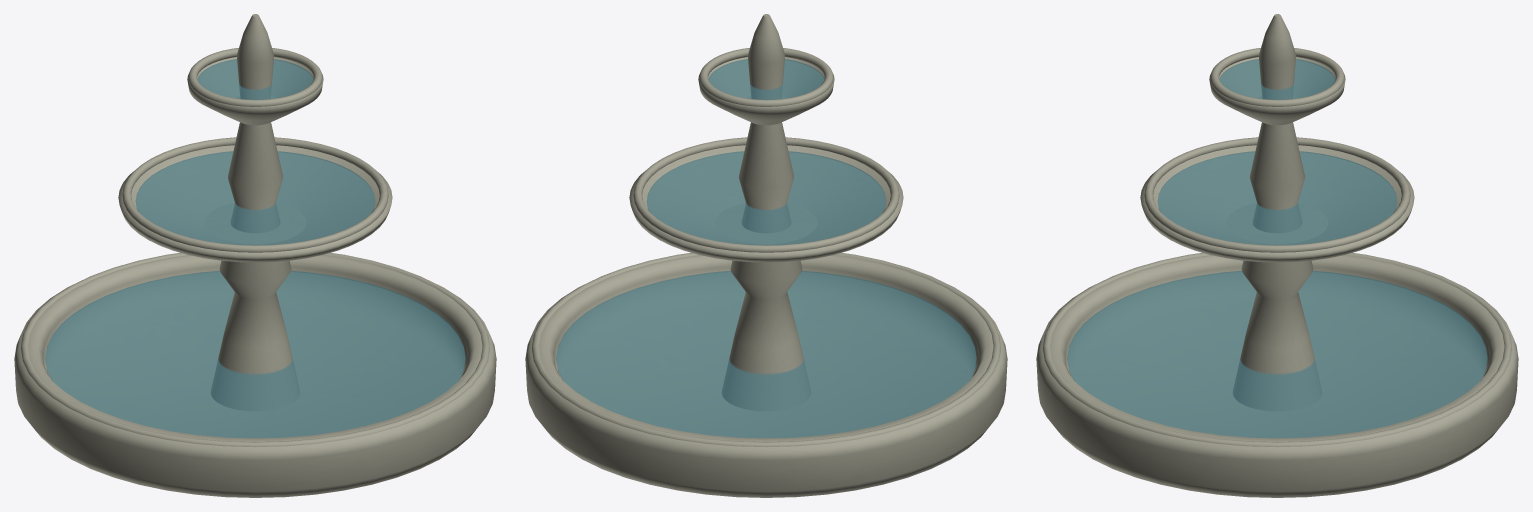
Rendered from TieredFountain.gltf.
The picture shows the model from 3 angles, left to right: view 1: azimuth 30°, elevation 25°; view 2: azimuth 150°, elevation 25°; view 3: azimuth 270°, elevation 25°; orthographic projection.
Parts seen in each view (by area): view 1: TieredFountain__Body, TieredFountain__Water3, TieredFountain__Water2, TieredFountain__Water1; view 2: TieredFountain__Body, TieredFountain__Water3, TieredFountain__Water2, TieredFountain__Water1; view 3: TieredFountain__Body, TieredFountain__Water3, TieredFountain__Water2, TieredFountain__Water1.
Part boxes in pixels (left/top/right/bottom): TieredFountain__Body: left=14, top=14, right=496, bottom=497; TieredFountain__Water3: left=45, top=270, right=465, bottom=438; TieredFountain__Water2: left=135, top=151, right=375, bottom=245; TieredFountain__Water1: left=197, top=59, right=313, bottom=99; TieredFountain__Body: left=525, top=14, right=1007, bottom=497; TieredFountain__Water3: left=556, top=270, right=976, bottom=438; TieredFountain__Water2: left=646, top=151, right=886, bottom=245; TieredFountain__Water1: left=708, top=59, right=824, bottom=99; TieredFountain__Body: left=1036, top=14, right=1518, bottom=497; TieredFountain__Water3: left=1067, top=270, right=1487, bottom=438; TieredFountain__Water2: left=1157, top=151, right=1397, bottom=245; TieredFountain__Water1: left=1219, top=59, right=1335, bottom=99.
Size of the model in its own units: 1.68 by 1.51 by 1.68.
Materials: 2 (1 with a texture image).
